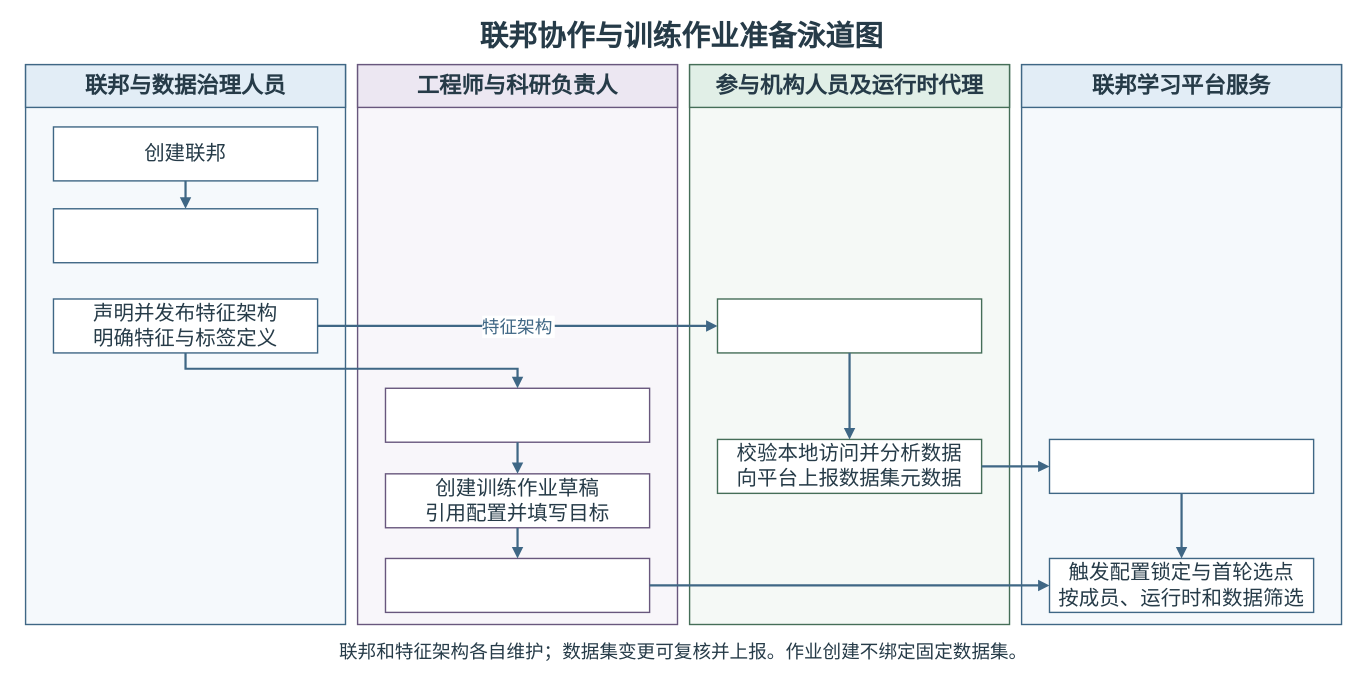
Image size: 1362x680. Some labels were removed from this diagram. The shapes that lost their labels are listed below. From the top down, each one's centre as x and y in pixels, then its label:
At (x=185, y=235): "邀请参与机构 治理审核通过后加入".
At (x=849, y=325): "声明和维护本地数据集 绑定本机构运行时".
At (x=517, y=414): "定义训练运行配置 指定联邦、特征架构等".
At (x=1181, y=466): "核对特征与标签兼容性 维护数据集元数据".
At (x=517, y=585): "提交训练作业".
